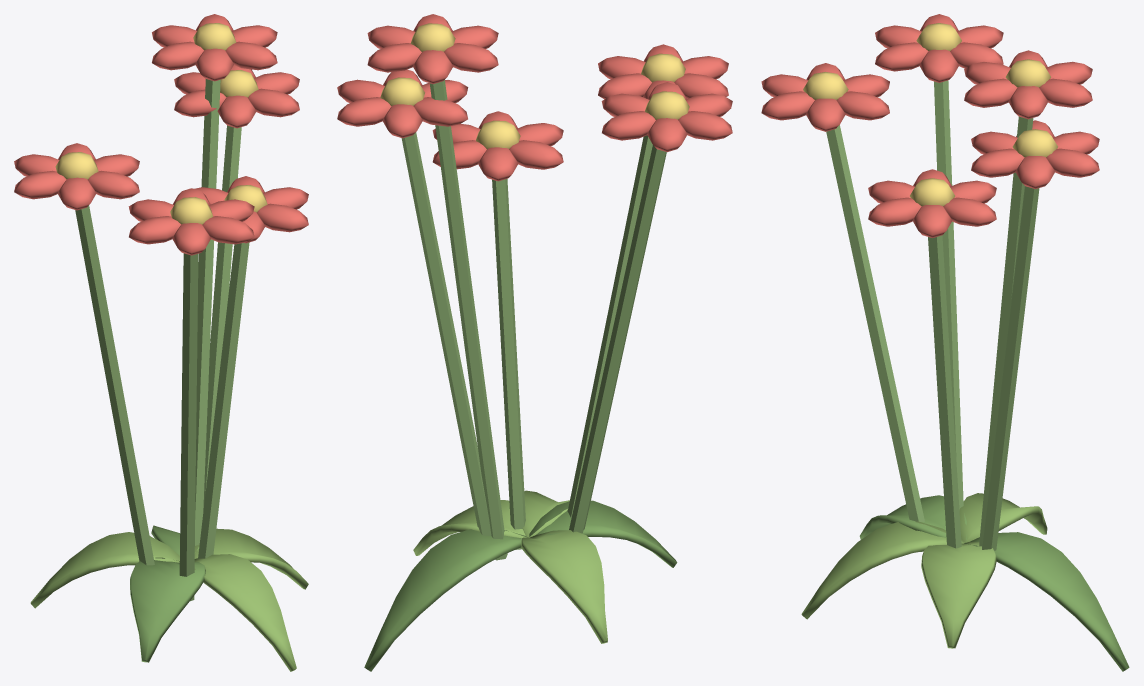
File: Poppies.gltf
The picture shows the model from 3 angles, left to right: view 1: azimuth 30°, elevation 25°; view 2: azimuth 150°, elevation 25°; view 3: azimuth 270°, elevation 25°; orthographic projection. The views are drawn at different scales.
Parts seen in each view (by area): view 1: Poppies; view 2: Poppies; view 3: Poppies.
Boxes of the visible parts, x1,y1,x2,y2 form: Poppies: [14, 14, 308, 671]; Poppies: [337, 14, 732, 671]; Poppies: [761, 14, 1129, 671].
Size of the model in its own units: 0.6875 by 1.16 by 0.6438.
